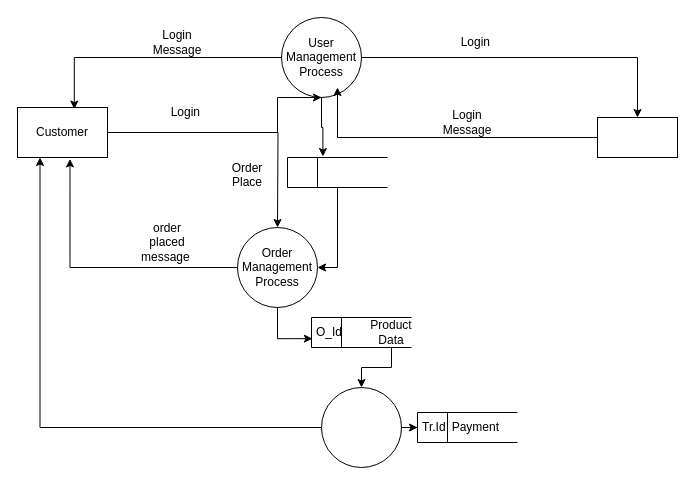
The diagram is 695 pixels wide and 485 high, and some of its shapes have lost their labels. Each missing label, with the centre of its shape:
"Admin" belongs at point 637,137.
"Payment Management Process" belongs at point 361,427.
"User Data" belongs at point 337,172.
